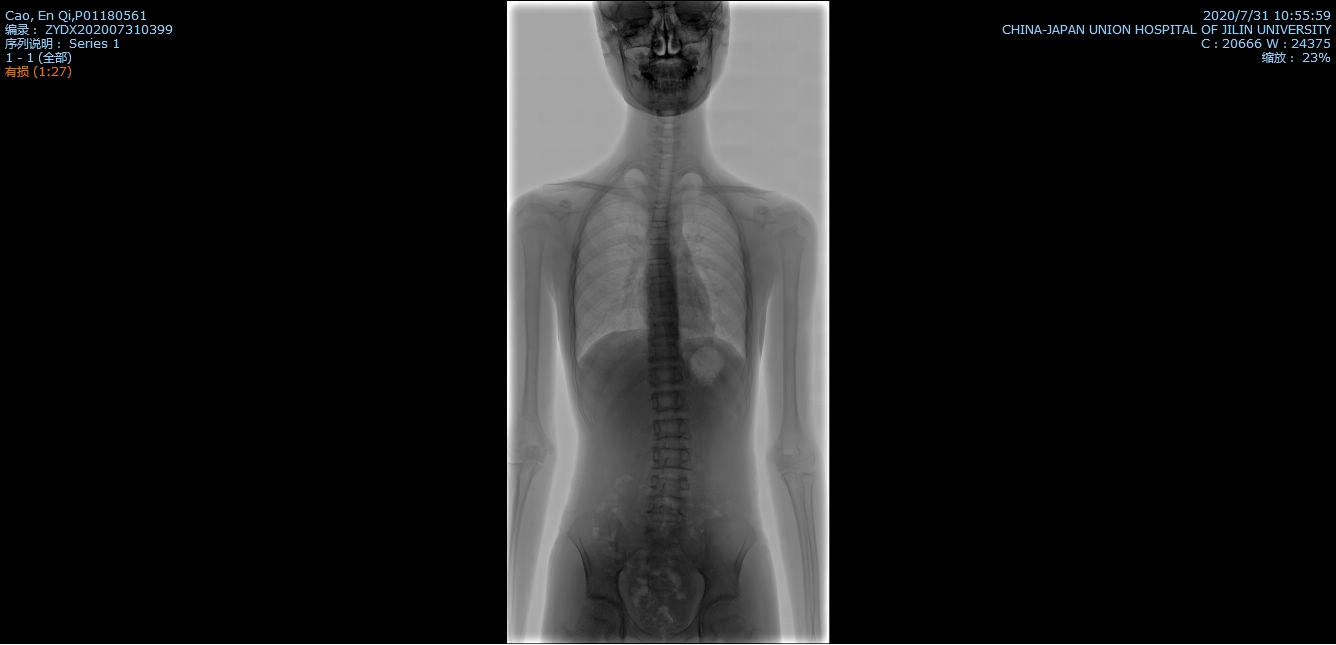Bone: (651, 476, 688, 496), (651, 506, 686, 527), (653, 448, 691, 467), (655, 419, 690, 439), (653, 393, 687, 410), (650, 368, 682, 385), (651, 323, 679, 340), (650, 344, 679, 360), (648, 284, 674, 301), (648, 264, 673, 279), (648, 305, 677, 317), (648, 243, 670, 257), (657, 158, 679, 171), (652, 206, 669, 222), (653, 188, 673, 201), (649, 227, 669, 239), (657, 175, 676, 186)
